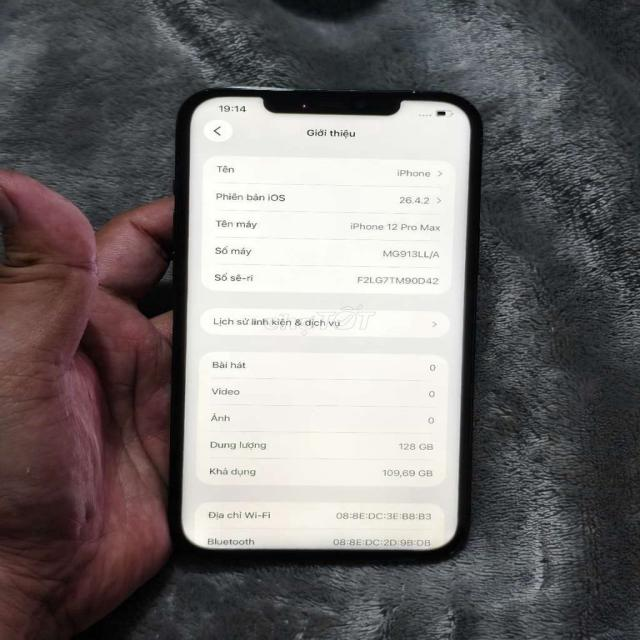gen_12_13: (165, 71, 487, 574)
